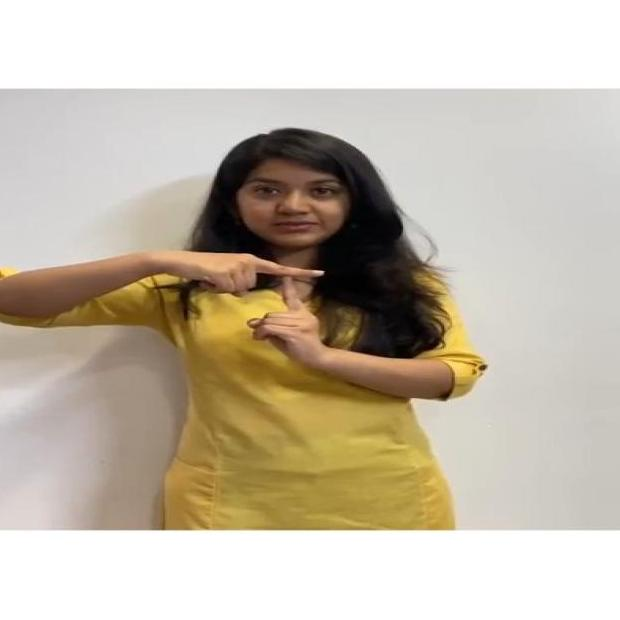S: (151, 242, 342, 369)
